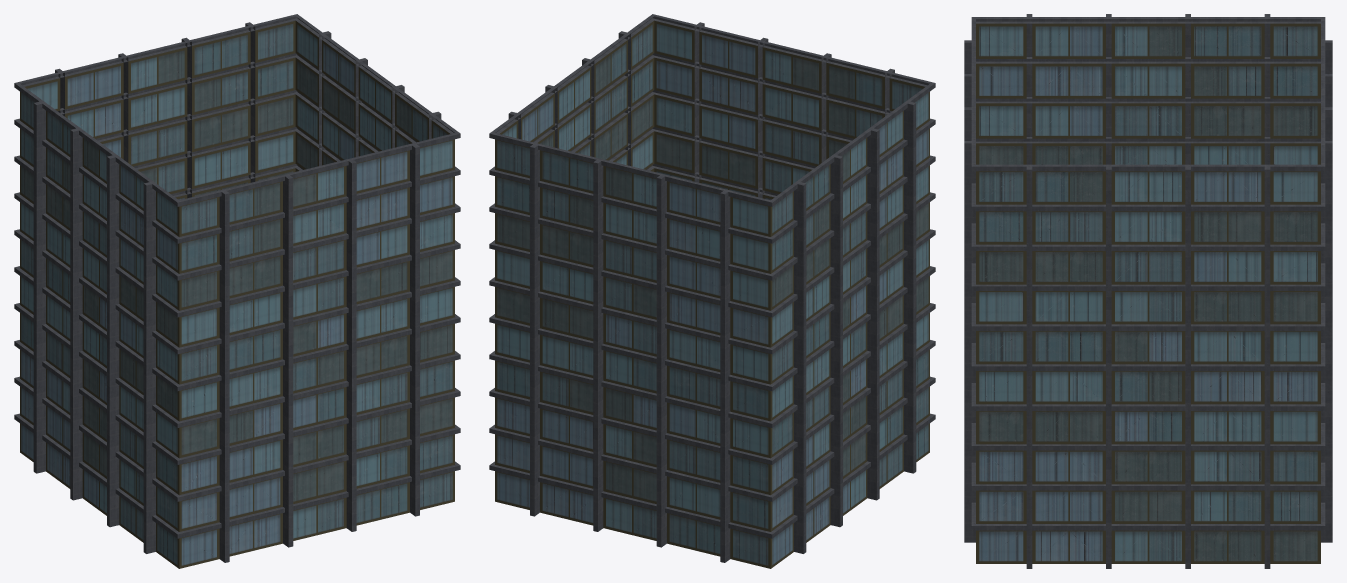
File: jctBld24_A_mdl_low.fbx
The picture shows the model from 3 angles, left to right: view 1: azimuth 30°, elevation 25°; view 2: azimuth 150°, elevation 25°; view 3: azimuth 270°, elevation 25°; orthographic projection. The views are drawn at different scales.
Visible parts, largest first — view 1: jctBld24_A_mdl_low; view 2: jctBld24_A_mdl_low; view 3: jctBld24_A_mdl_low.
Part boxes in pixels (box(x1,y1,x2,y2)): jctBld24_A_mdl_low: box(14, 14, 460, 568); jctBld24_A_mdl_low: box(489, 14, 935, 568); jctBld24_A_mdl_low: box(964, 14, 1332, 568).
Bounding box in the file's own units: 2510 × 3000 × 2510.
